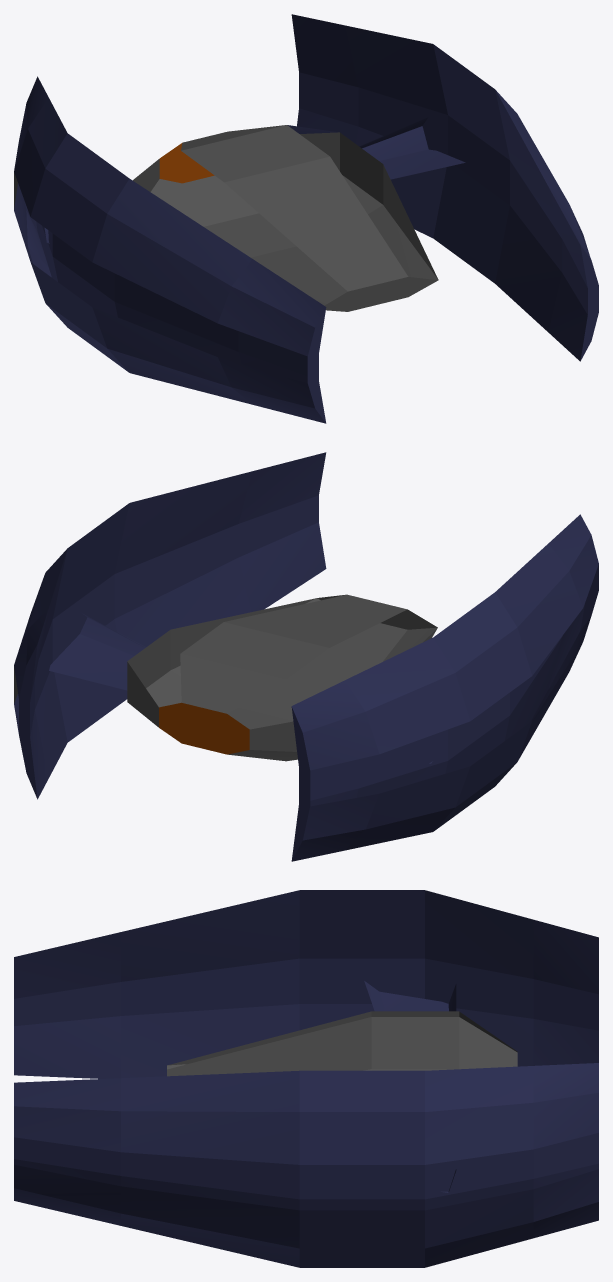
File: smallship.glb
The picture shows the model from 3 angles, top to bottom: view 1: azimuth 30°, elevation 25°; view 2: azimuth 150°, elevation 25°; view 3: azimuth 270°, elevation 25°; orthographic projection.
Visible parts, largest first — view 1: s01.001; view 2: s01.001; view 3: s01.001.
Part boxes in pixels (<box>): s01.001: <box>14,14,598,423</box>; s01.001: <box>14,452,598,861</box>; s01.001: <box>14,890,598,1267</box>.
Size of the model in its own units: 44.08 by 18.63 by 50.12.
